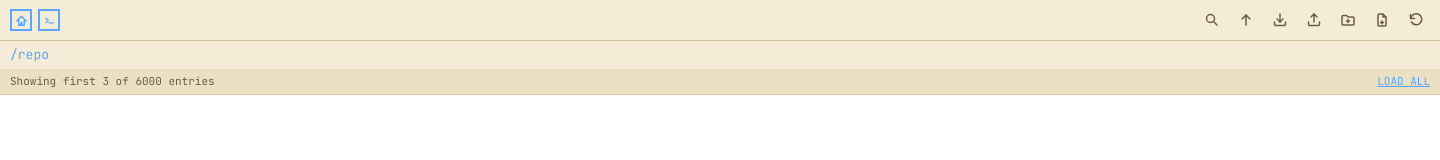
Test: FileManager 列表截断与加载全部 › 显示截断提示；点「加载全部」带 all=true 并隐藏提示
Expected: the element with class "fm-truncated-bar" is shown, top-left (0, 69), bottom-right (1439, 94)
Expected: the element with class "fm-truncated-bar" shows "Showing first 3 of 6000 entries", top-left (10, 74), bottom-right (215, 88)
Click the button with class "fm-truncated-action".
click(1404, 81)  # box top-left (1377, 73), bottom-right (1430, 90)
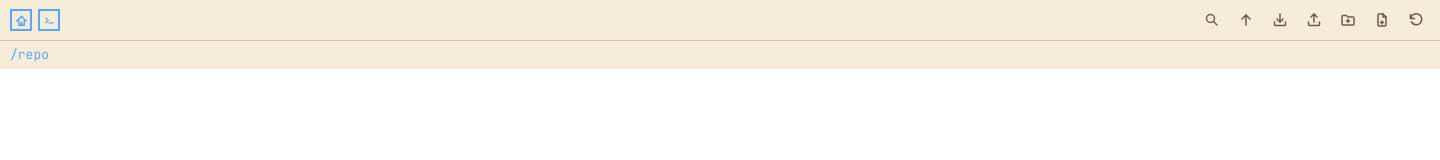
Expected: the element with class "fm-truncated-bar" is gone
